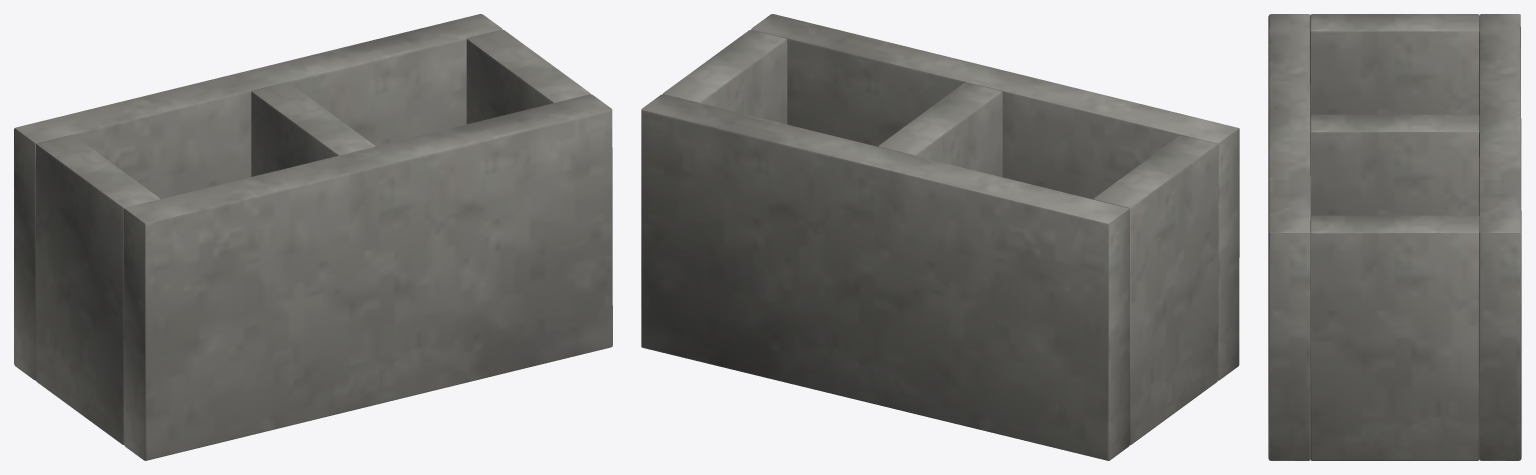
Rendered from ALV-BCO-007_lod1.glb.
3 views of the same model, side by side, from view 1: azimuth 30°, elevation 25°; view 2: azimuth 150°, elevation 25°; view 3: azimuth 270°, elevation 25° (orthographic). The views are drawn at different scales.
Visible parts, largest first — view 1: ALV-BCO-007_pf1, ALV-BCO-007_pf2, ALV-BCO-007_t0, ALV-BCO-007_t2, ALV-BCO-007_t1; view 2: ALV-BCO-007_pf2, ALV-BCO-007_pf1, ALV-BCO-007_t0, ALV-BCO-007_t2, ALV-BCO-007_t1; view 3: ALV-BCO-007_t2, ALV-BCO-007_pf1, ALV-BCO-007_pf2, ALV-BCO-007_t1, ALV-BCO-007_t0.
Boxes of the visible parts, left/top/right/bottom form: ALV-BCO-007_pf1: left=123, top=94, right=612, bottom=460; ALV-BCO-007_pf2: left=14, top=14, right=502, bottom=380; ALV-BCO-007_t0: left=36, top=134, right=159, bottom=444; ALV-BCO-007_t2: left=466, top=29, right=590, bottom=124; ALV-BCO-007_t1: left=251, top=82, right=375, bottom=176; ALV-BCO-007_pf2: left=641, top=94, right=1129, bottom=460; ALV-BCO-007_pf1: left=751, top=14, right=1239, bottom=380; ALV-BCO-007_t0: left=1093, top=135, right=1217, bottom=445; ALV-BCO-007_t2: left=663, top=29, right=787, bottom=124; ALV-BCO-007_t1: left=878, top=82, right=1002, bottom=177; ALV-BCO-007_t2: left=1310, top=215, right=1479, bottom=460; ALV-BCO-007_pf1: left=1268, top=14, right=1310, bottom=460; ALV-BCO-007_pf2: left=1479, top=14, right=1521, bottom=460; ALV-BCO-007_t1: left=1310, top=114, right=1479, bottom=215; ALV-BCO-007_t0: left=1310, top=14, right=1479, bottom=114.
Bounding box in the file's own units: 0.39 × 0.19 × 0.19.
Materials: 1 (1 with a texture image).
